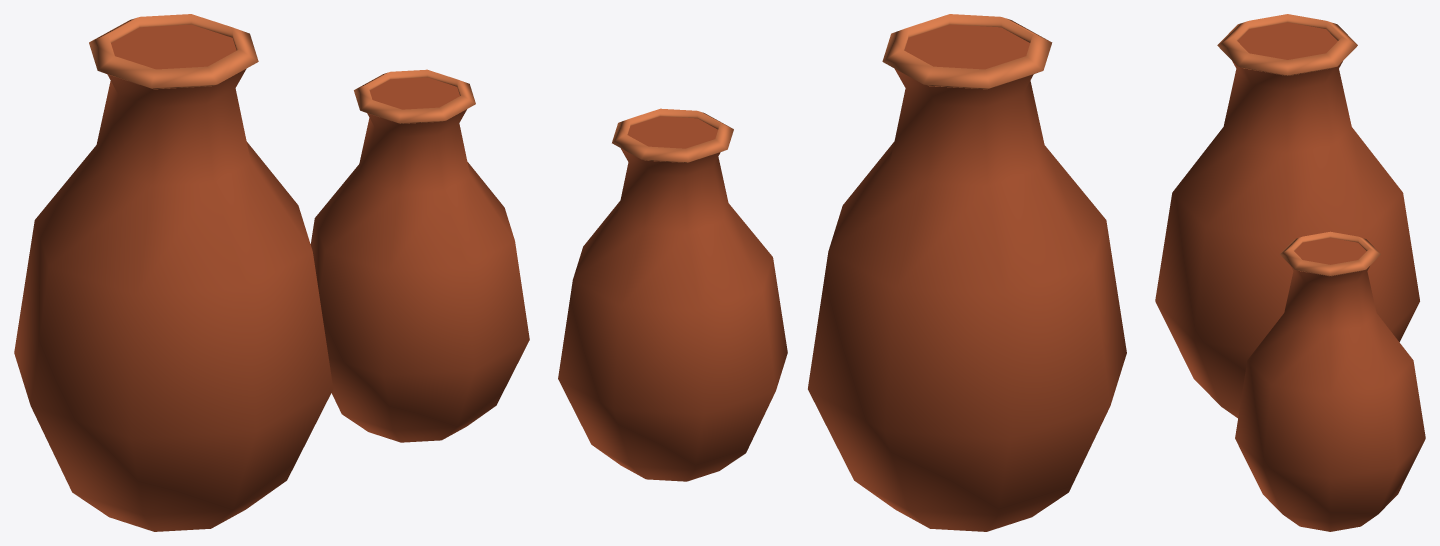
The model's file is decor_amphora_cluster_LOD2.glb.
3 views of the same model, side by side, from view 1: azimuth 30°, elevation 25°; view 2: azimuth 150°, elevation 25°; view 3: azimuth 270°, elevation 25° (orthographic). The views are drawn at different scales.
Visible parts, largest first — view 1: decor_amphora_cluster_LOD2; view 2: decor_amphora_cluster_LOD2; view 3: decor_amphora_cluster_LOD2.
Boxes of the visible parts, box(x1,y1,x2,y2) form: decor_amphora_cluster_LOD2: box(14, 14, 529, 531); decor_amphora_cluster_LOD2: box(558, 14, 1126, 531); decor_amphora_cluster_LOD2: box(1155, 14, 1425, 531).
Size of the model in its own units: 1.11 by 0.9601 by 0.6332.
